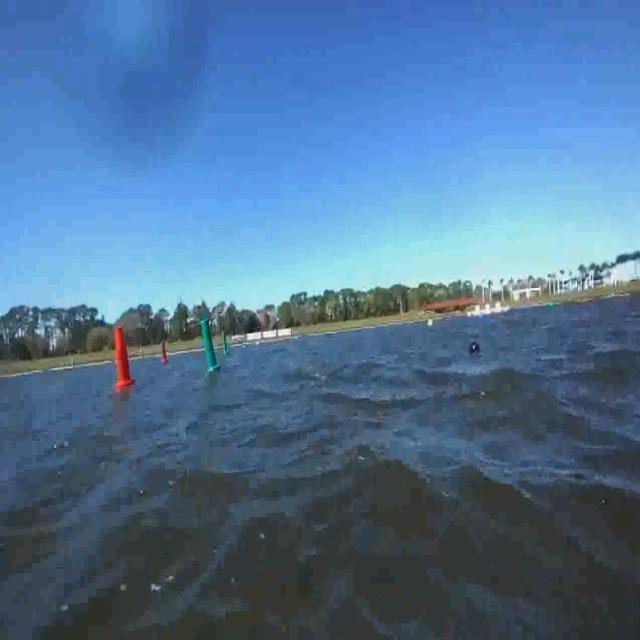black-buoy: (470, 340, 484, 357)
green-column-buoy: (200, 318, 222, 373), (221, 333, 229, 357)
red-column-buoy: (114, 325, 136, 388), (162, 342, 170, 365)
yellow-buoy: (426, 317, 434, 330)
